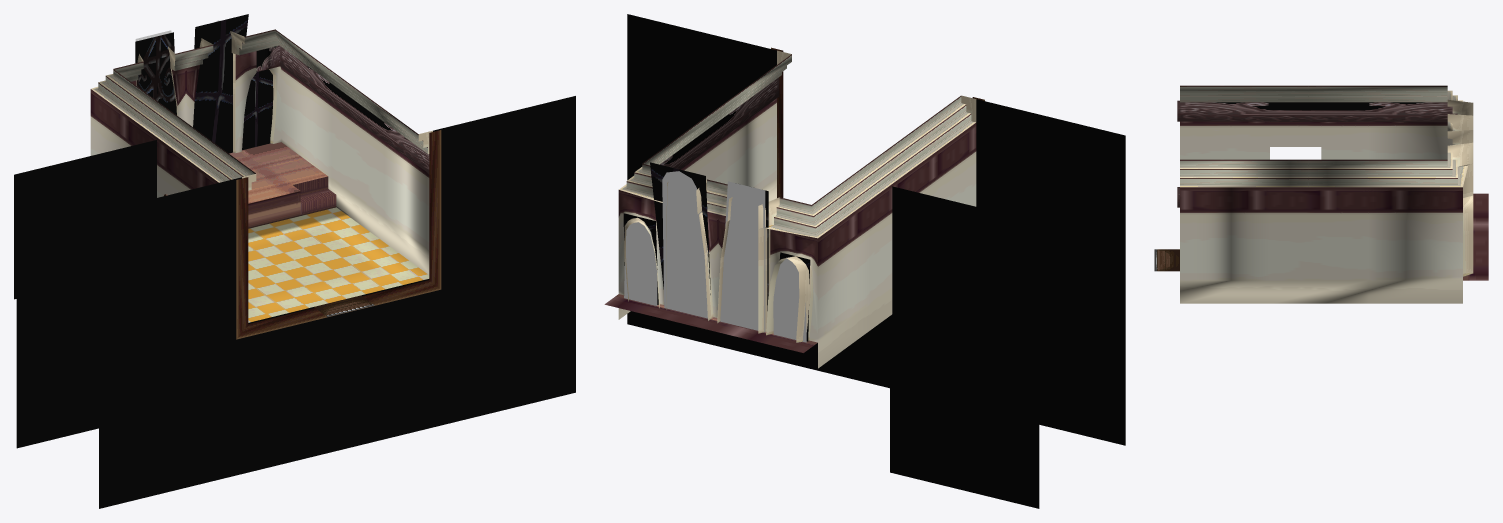
3 renders of one model, left to right at view 1: azimuth 30°, elevation 25°; view 2: azimuth 150°, elevation 25°; view 3: azimuth 270°, elevation 25°, orthographic. The views are drawn at different scales.
Parts seen in each view (by area): view 1: sc_hall; view 2: sc_hall; view 3: sc_hall.
Boxes of the visible parts, x1,y1,x2,y2 form: sc_hall: (14, 14, 575, 508); sc_hall: (604, 14, 1125, 508); sc_hall: (1154, 85, 1488, 303).
Size of the model in its own units: 10.05 by 6.23 by 6.5.
14 materials, 14 textured.
